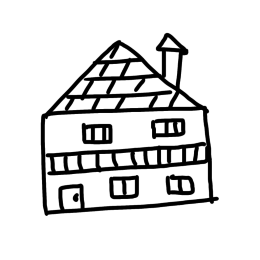chimney: (156, 18, 192, 92)
closed_window: (148, 170, 201, 196), (102, 174, 150, 201), (140, 114, 189, 137), (73, 120, 118, 145)
door: (58, 183, 89, 216)
roof: (28, 35, 220, 121)
wall: (38, 102, 229, 220)
